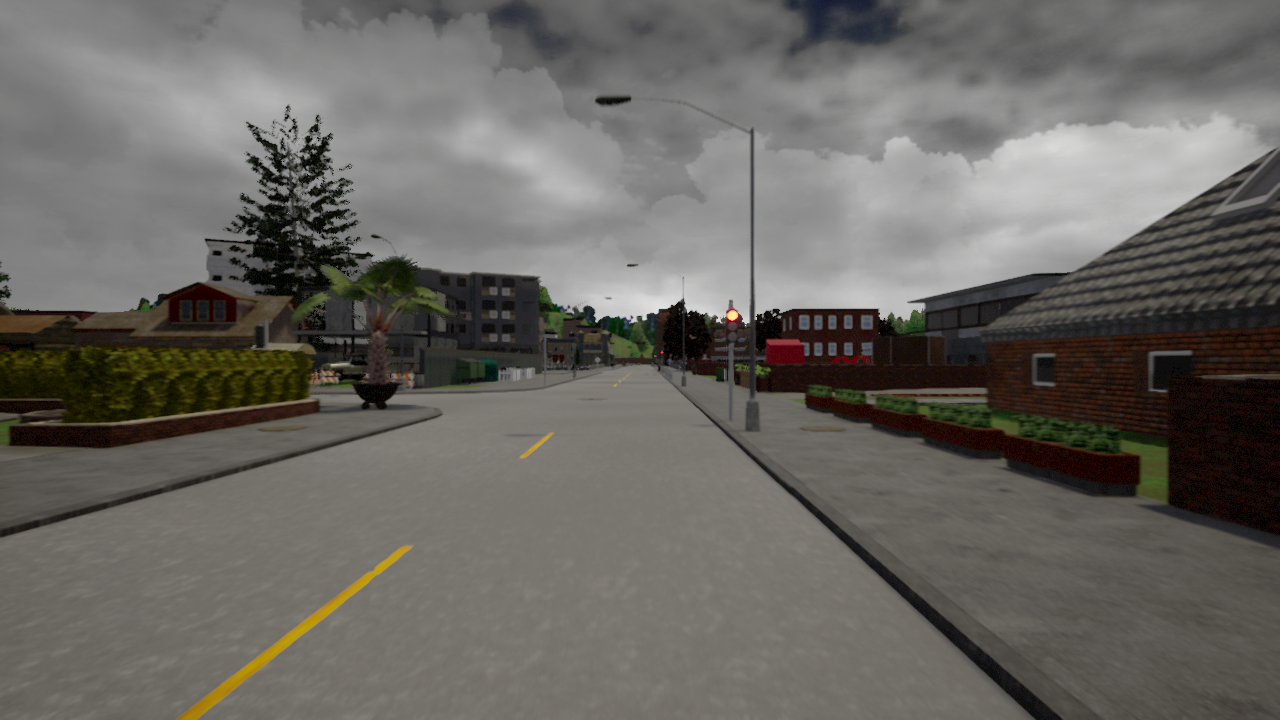red: (724, 308, 739, 344)
